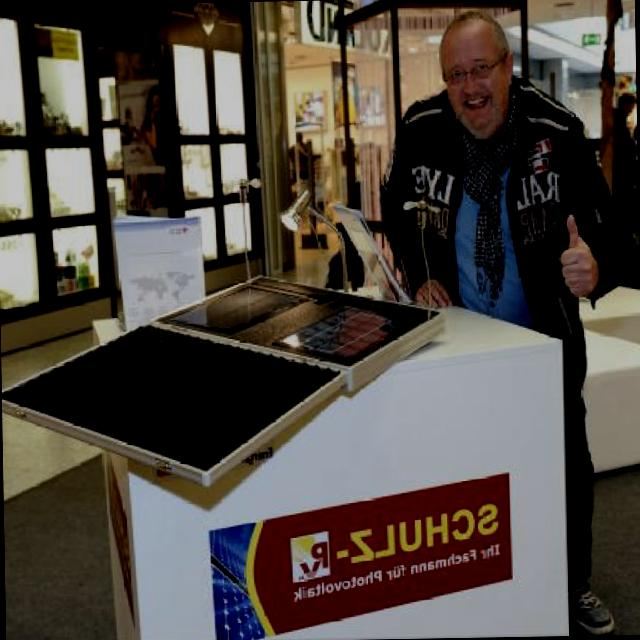Person: (375, 6, 640, 635)
